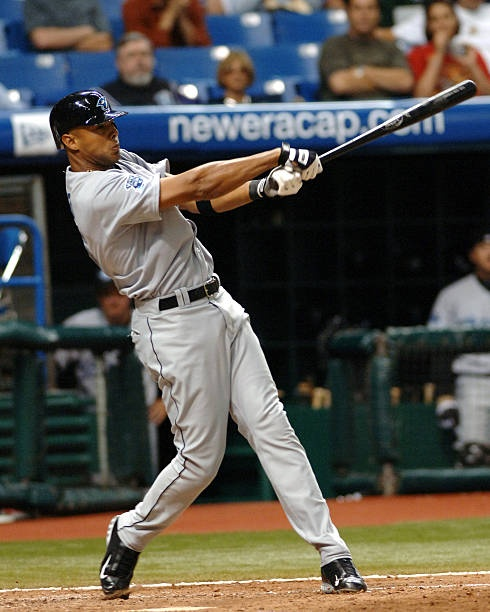bita: (281, 81, 473, 175)
